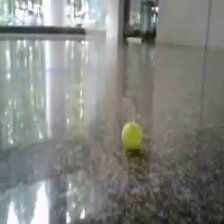tennis: (122, 122, 142, 150)
